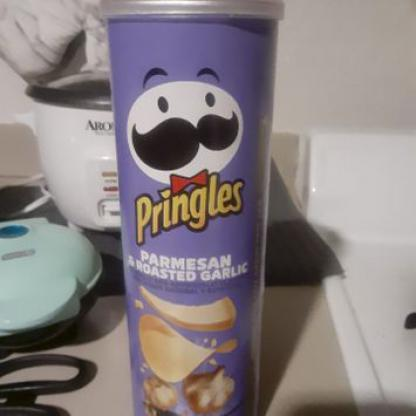potatochip: (102, 0, 285, 415)
